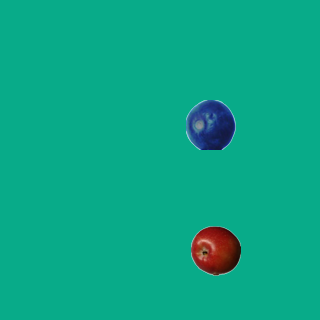Apple Braeburn: (190, 225, 240, 275)
Huckleberry: (185, 99, 235, 149)
